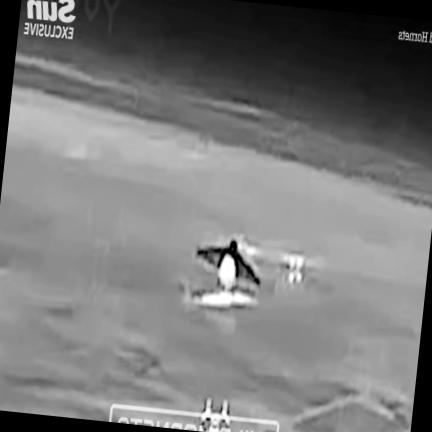Shahed: (196, 239, 259, 293)
